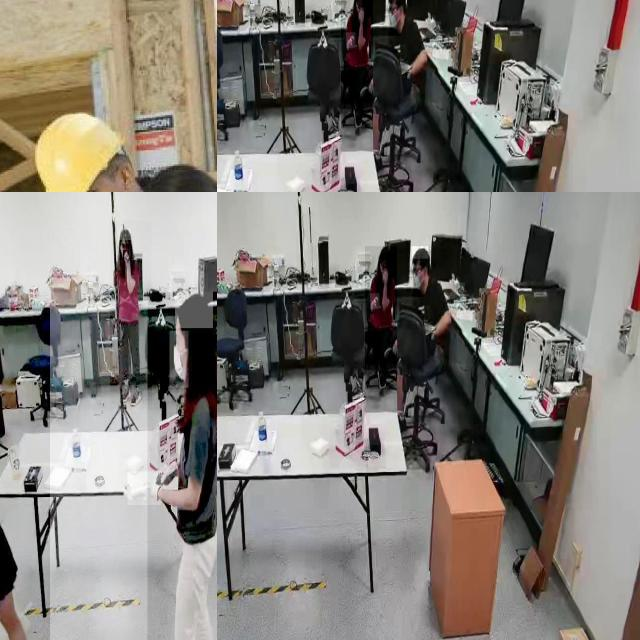face_mask: (170, 330, 188, 388), (389, 1, 401, 36), (413, 262, 425, 297)
face_nomask: (120, 244, 130, 262), (355, 1, 365, 13), (379, 262, 389, 274)
hand_glove: (128, 471, 162, 506)
hand_noglove: (346, 32, 356, 49), (370, 294, 380, 310), (382, 268, 388, 284), (358, 8, 364, 22), (123, 250, 129, 264)
head_helmet: (31, 112, 124, 192)
head_nohelmet: (137, 169, 204, 192), (175, 292, 213, 329), (411, 246, 429, 260), (378, 245, 392, 258), (118, 229, 132, 241)
person: (147, 291, 217, 640), (0, 307, 50, 640), (19, 113, 205, 192), (110, 220, 152, 410), (394, 249, 452, 379), (370, 0, 428, 118), (365, 246, 397, 390), (340, 0, 373, 129)
shoes: (128, 384, 142, 408), (119, 380, 133, 404)
